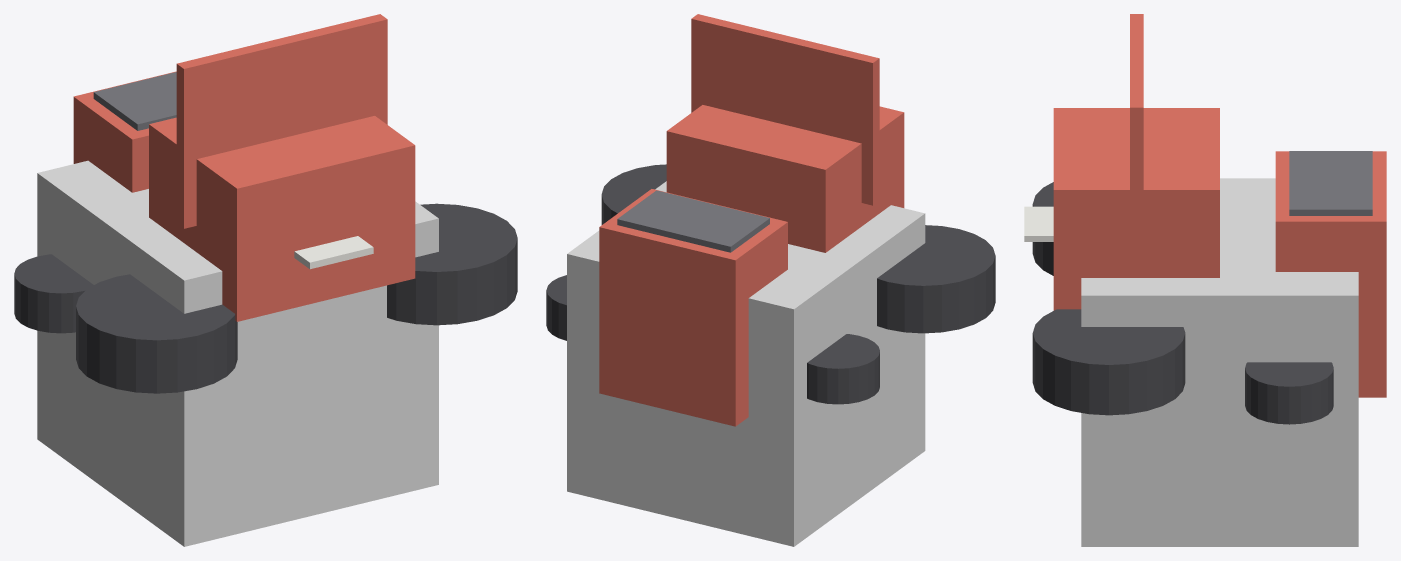
The model's file is tractor_1.glb.
The picture shows the model from 3 angles, left to right: view 1: azimuth 30°, elevation 25°; view 2: azimuth 150°, elevation 25°; view 3: azimuth 270°, elevation 25°; orthographic projection. The views are drawn at different scales.
Visible parts, largest first — view 1: Cube, Cabin, Roof, Wheel_RL, Wheel_RR, Hood, Wheel_FL, Grille, Plate; view 2: Cube, Hood, Cabin, Roof, Wheel_RL, Grille, Wheel_FL, Wheel_RR, Wheel_FR; view 3: Cube, Cabin, Wheel_RR, Hood, Grille, Wheel_FR, Roof, Plate, Wheel_RL.
Part boxes in pixels (bbox=[...]): Cube: bbox=[37, 160, 438, 546]; Cabin: bbox=[149, 116, 415, 321]; Roof: bbox=[176, 14, 387, 228]; Wheel_RL: bbox=[76, 274, 237, 393]; Wheel_RR: bbox=[387, 203, 517, 325]; Hood: bbox=[73, 71, 176, 192]; Wheel_FL: bbox=[14, 254, 93, 333]; Grille: bbox=[93, 72, 176, 130]; Plate: bbox=[294, 236, 373, 269]; Cube: bbox=[567, 181, 925, 546]; Hood: bbox=[599, 189, 787, 426]; Cabin: bbox=[666, 105, 904, 252]; Roof: bbox=[691, 14, 879, 205]; Wheel_RL: bbox=[877, 225, 995, 333]; Grille: bbox=[617, 190, 769, 252]; Wheel_FL: bbox=[807, 334, 879, 404]; Wheel_RR: bbox=[601, 164, 666, 224]; Wheel_FR: bbox=[546, 275, 566, 340]; Cube: bbox=[1081, 178, 1358, 546]; Cabin: bbox=[1053, 108, 1219, 310]; Wheel_RR: bbox=[1032, 309, 1185, 415]; Hood: bbox=[1275, 151, 1386, 397]; Grille: bbox=[1289, 151, 1372, 215]; Wheel_FR: bbox=[1245, 362, 1333, 424]; Roof: bbox=[1130, 14, 1143, 258]; Plate: bbox=[1024, 206, 1053, 241]; Wheel_RL: bbox=[1032, 182, 1053, 275].
Size of the model in its own units: 3.3 by 3.4 by 2.61.
